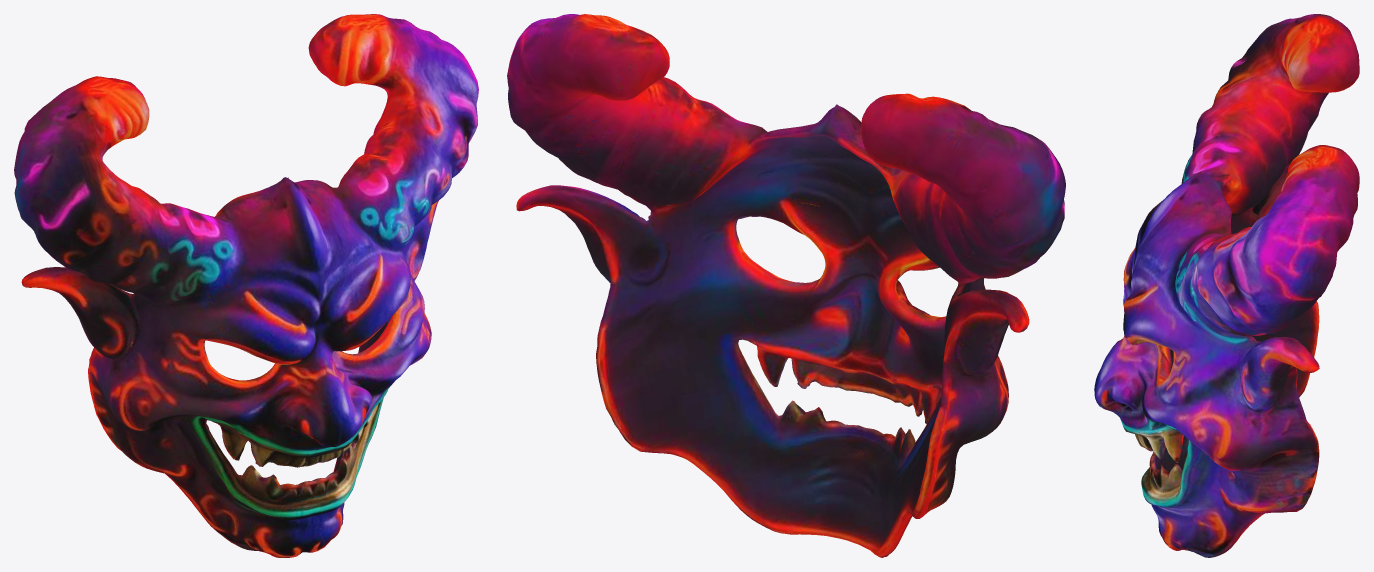
File: mask-f.glb
The picture shows the model from 3 angles, left to right: view 1: azimuth 30°, elevation 25°; view 2: azimuth 150°, elevation 25°; view 3: azimuth 270°, elevation 25°; orthographic projection. The views are drawn at different scales.
Parts seen in each view (by area): view 1: Maks-f; view 2: Maks-f; view 3: Maks-f.
Boxes of the visible parts, bbox=[...] form: Maks-f: bbox=[14, 14, 478, 557]; Maks-f: bbox=[507, 14, 1065, 557]; Maks-f: bbox=[1094, 14, 1359, 557].
Bounding box in the file's own units: 0.3405 × 0.3232 × 0.1716.
1 material, 1 textured.
